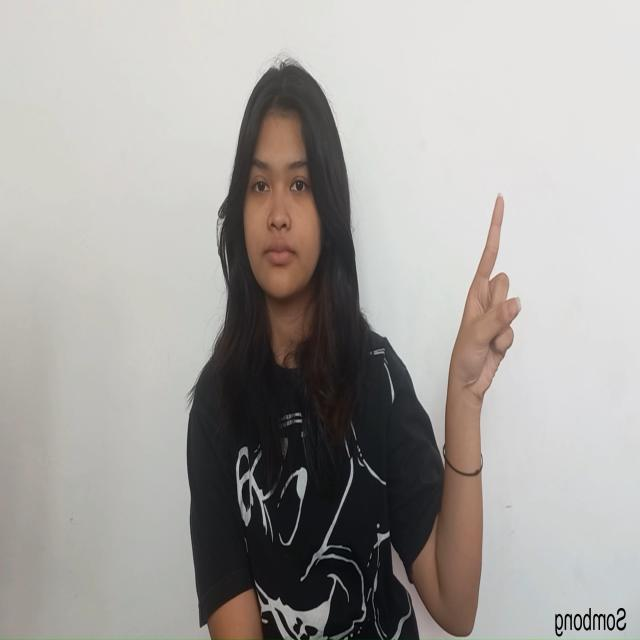Sombong -BISINDO-: (442, 190, 524, 414)
